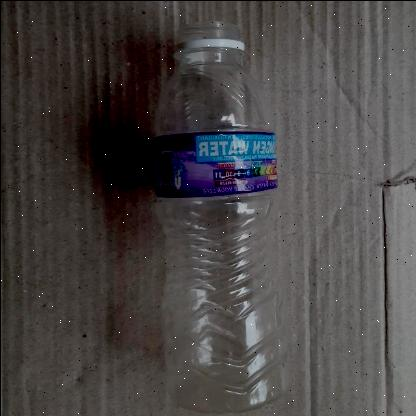Plastic Bottle: (152, 18, 286, 416)
